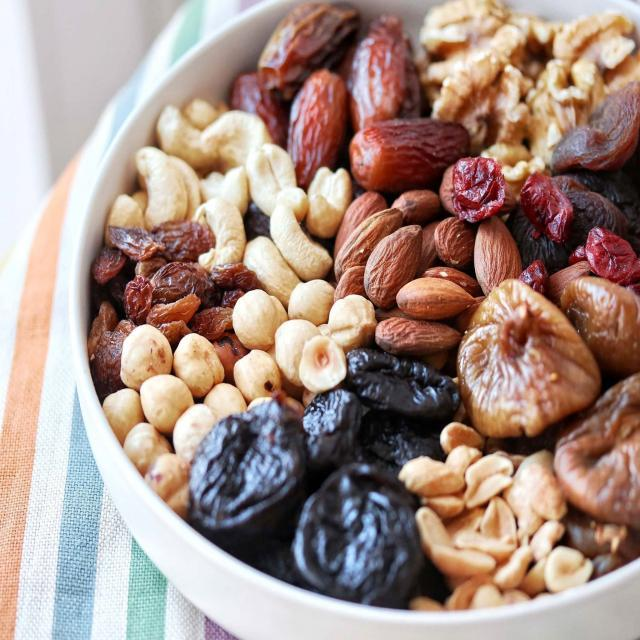Frutta secca: (100, 9, 640, 589)
